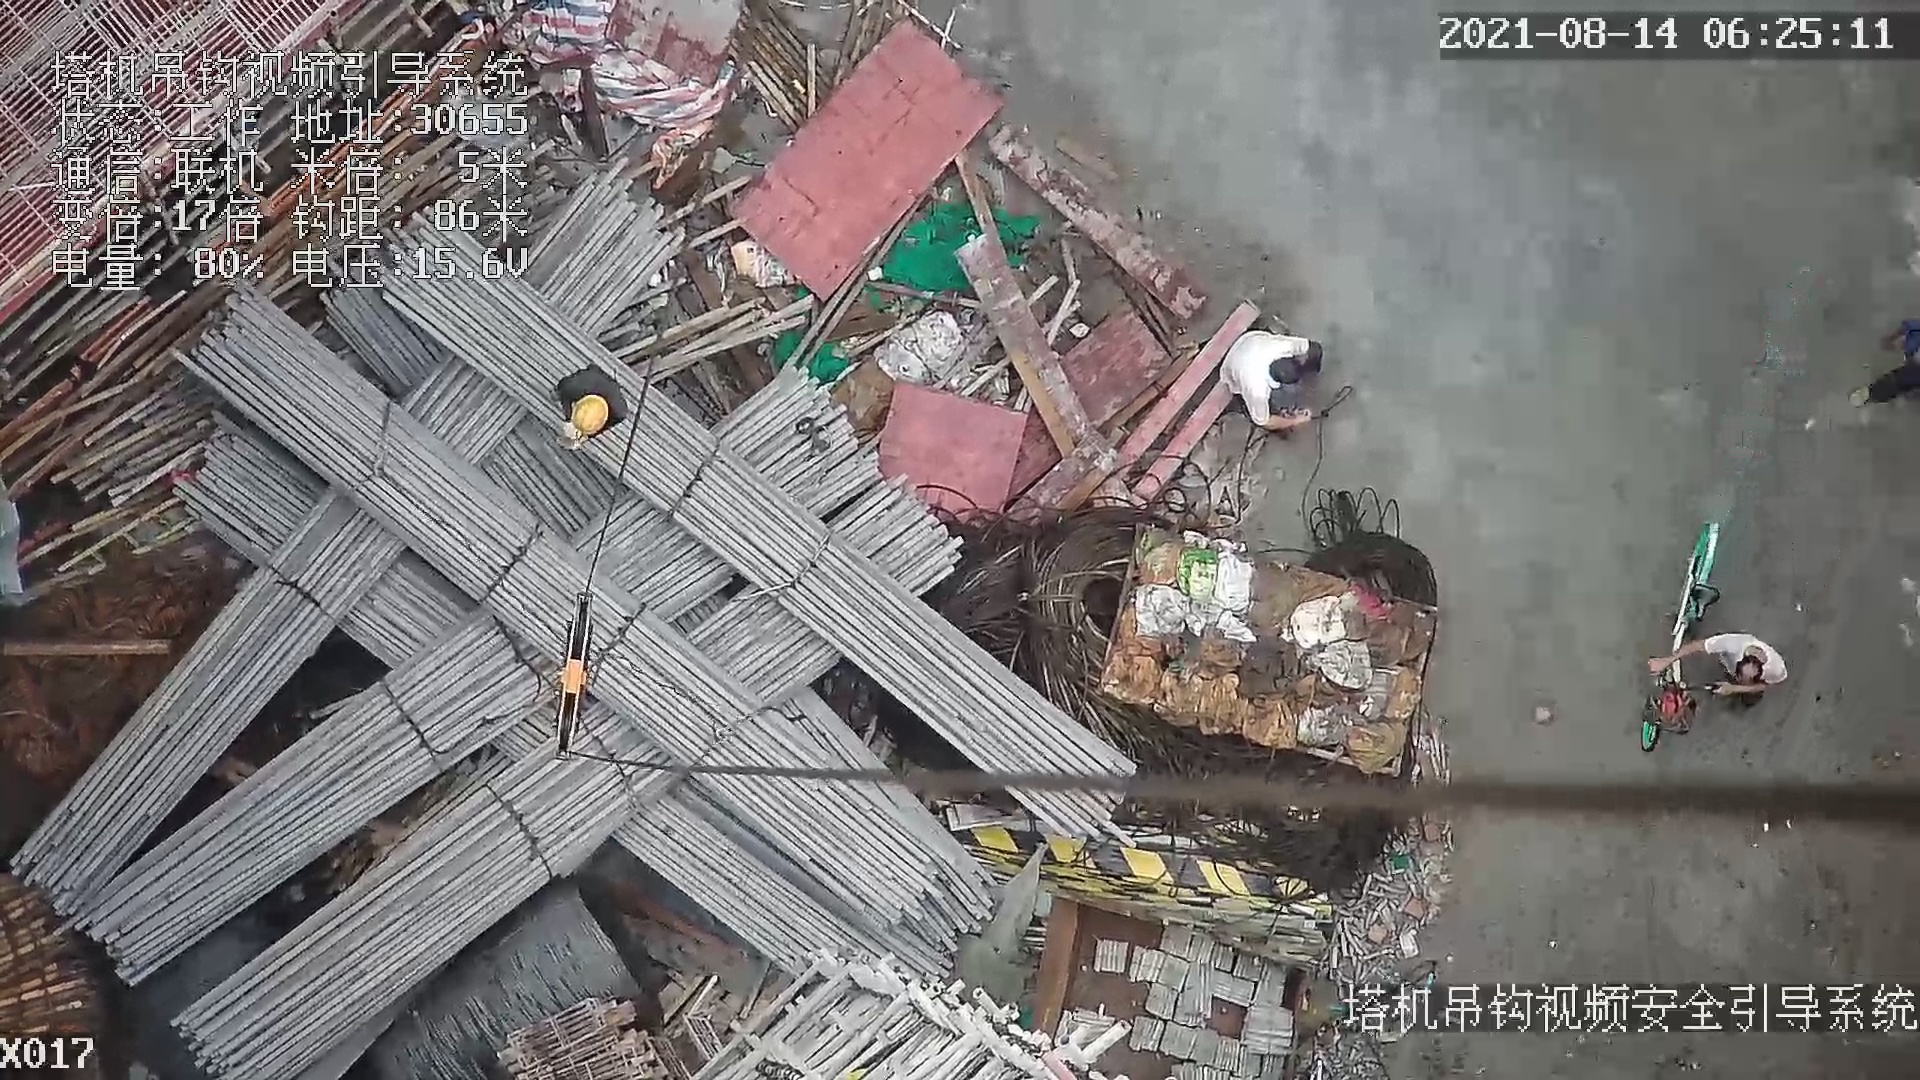helmet: (571, 392, 610, 435)
hook: (545, 586, 592, 767)
person: (1218, 314, 1327, 433), (1663, 633, 1787, 703), (550, 356, 635, 449)
